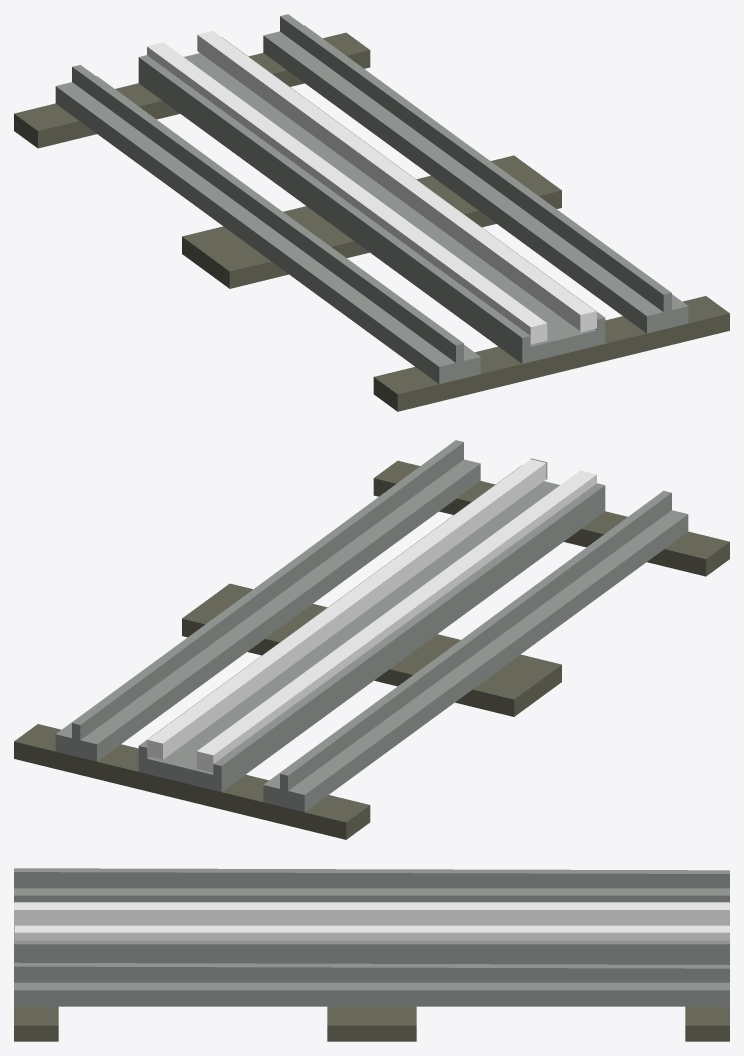
Rendered from Track Straight_LOD2.gltf.
3 renders of one model, top to bottom at view 1: azimuth 30°, elevation 25°; view 2: azimuth 150°, elevation 25°; view 3: azimuth 270°, elevation 25°, orthographic. The views are drawn at different scales.
Parts seen in each view (by area): view 1: 3228b.dat, 3228b.dat.001, 3240b.dat, 3240b.dat.001, 3460.dat, 767.dat, 3460.dat.001; view 2: 3228b.dat, 3228b.dat.001, 3240b.dat, 3240b.dat.001, 3460.dat.001, 767.dat, 3460.dat; view 3: 3228b.dat.001, 3240b.dat, 3228b.dat, 3240b.dat.001, 767.dat, 3460.dat, 3460.dat.001.
Part boxes in pixels (x1=…): 3228b.dat: x1=55, y1=65, x2=480, y2=384; 3228b.dat.001: x1=263, y1=14, x2=688, y2=333; 3240b.dat: x1=147, y1=31, x2=596, y2=344; 3240b.dat.001: x1=138, y1=37, x2=605, y2=363; 3460.dat: x1=373, y1=296, x2=729, y2=411; 767.dat: x1=182, y1=155, x2=561, y2=288; 3460.dat.001: x1=14, y1=32, x2=370, y2=148; 3228b.dat: x1=263, y1=490, x2=688, y2=812; 3228b.dat.001: x1=55, y1=440, x2=480, y2=761; 3240b.dat: x1=147, y1=458, x2=596, y2=772; 3240b.dat.001: x1=138, y1=465, x2=605, y2=791; 3460.dat.001: x1=14, y1=724, x2=370, y2=839; 767.dat: x1=182, y1=583, x2=561, y2=716; 3460.dat: x1=373, y1=460, x2=729, y2=576; 3228b.dat.001: x1=14, y1=962, x2=729, y2=1006; 3240b.dat: x1=14, y1=902, x2=729, y2=940; 3228b.dat: x1=14, y1=868, x2=729, y2=902; 3240b.dat.001: x1=14, y1=926, x2=729, y2=964; 767.dat: x1=327, y1=1006, x2=416, y2=1041; 3460.dat: x1=14, y1=1006, x2=58, y2=1041; 3460.dat.001: x1=685, y1=1006, x2=729, y2=1041.
Size of the model in its own units: 64 by 9.6 by 128.
1 material, 1 textured.
